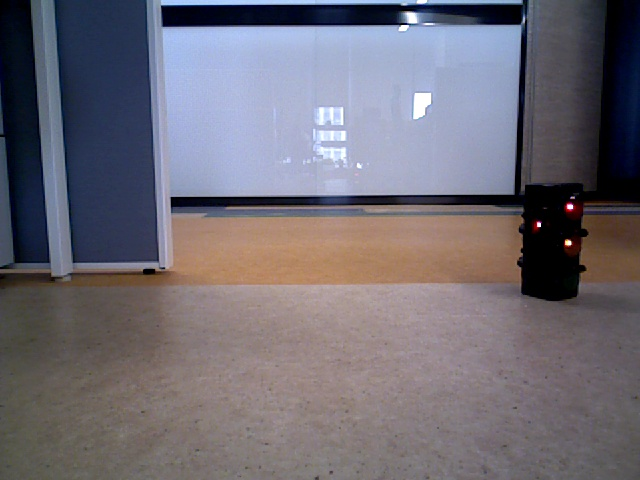red: (526, 184, 582, 294)
